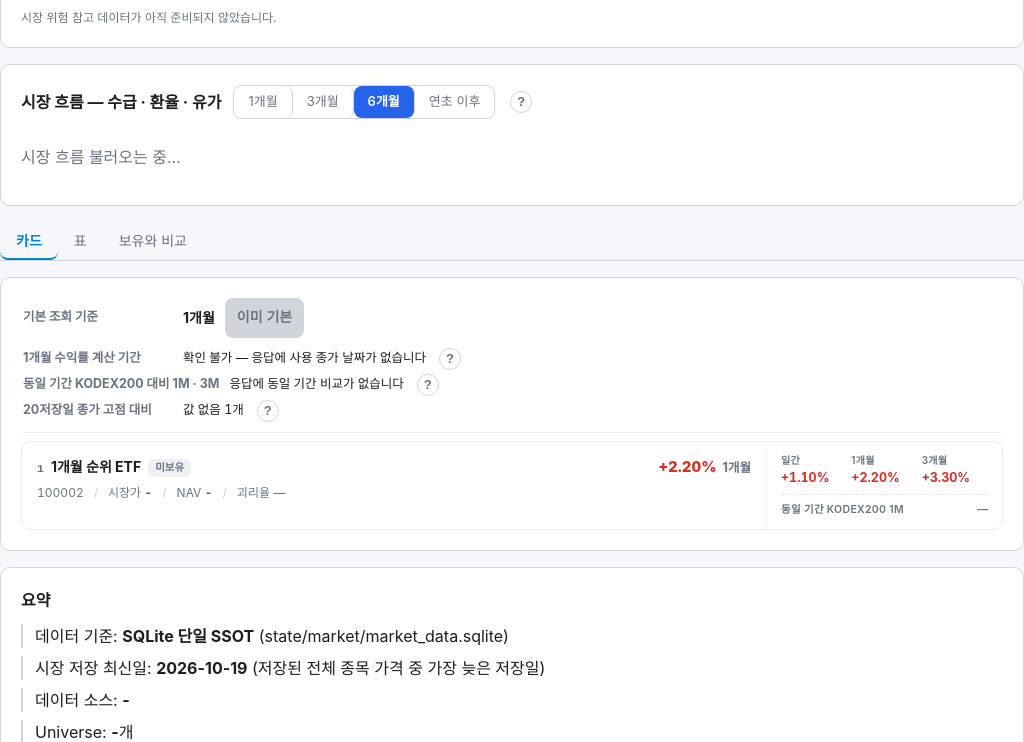
Test: 첫 시장 조회 (POC5-26 설계 §3 · 판정 §2) › 저장 범위 한 문장은 기간 상자 첫 줄 ? 안에(이 줄에 새 도움말 없음)
This screenshot has width=1024, height=742.
(page scrolled)
Click the button named "수익률 계산 기간 도움말" at (450, 358), box [430,338,470,378]
(page scrolled)
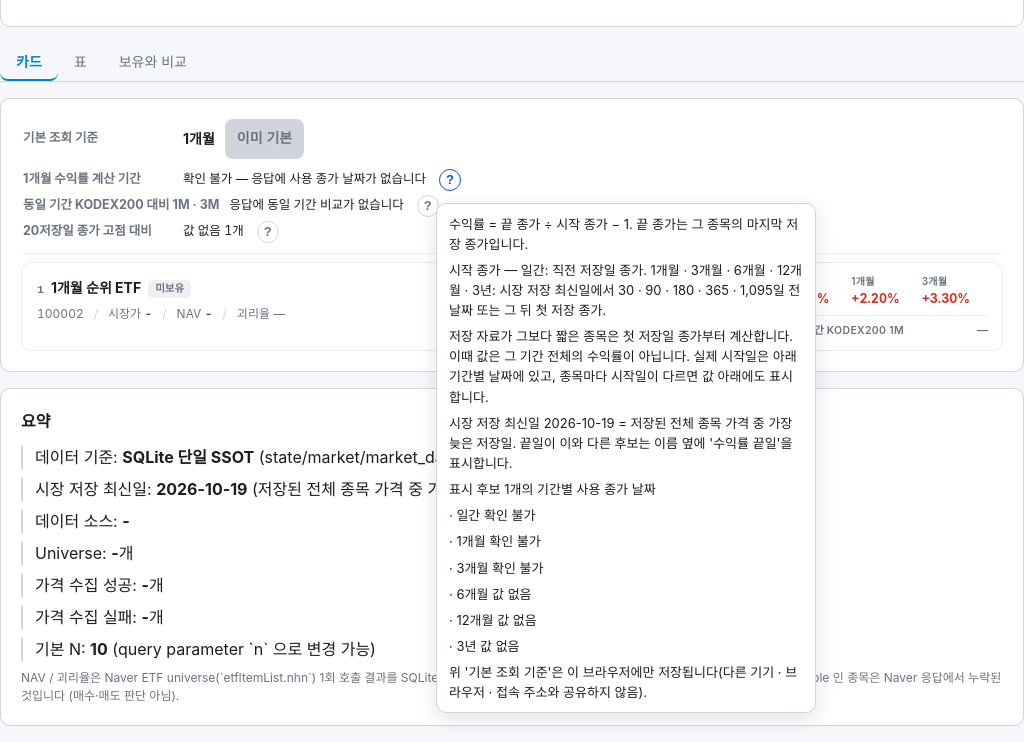
Check: the dialog named "수익률 계산 기간 도움말" shows "위 '기본 조회 기준'은 이 브라우저에만 저장됩니다(다른 기기 · 브라우저 · 접속 주소와 공유하지 않음).", box [449,664,797,700]
